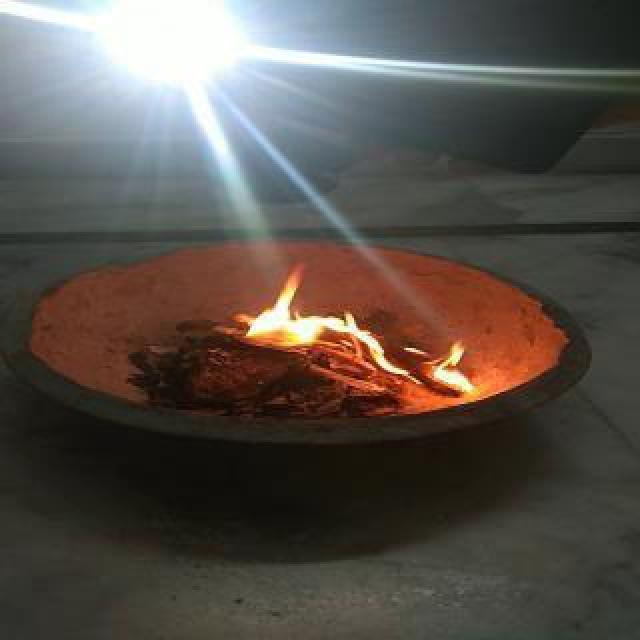Fire: (224, 270, 486, 396)
